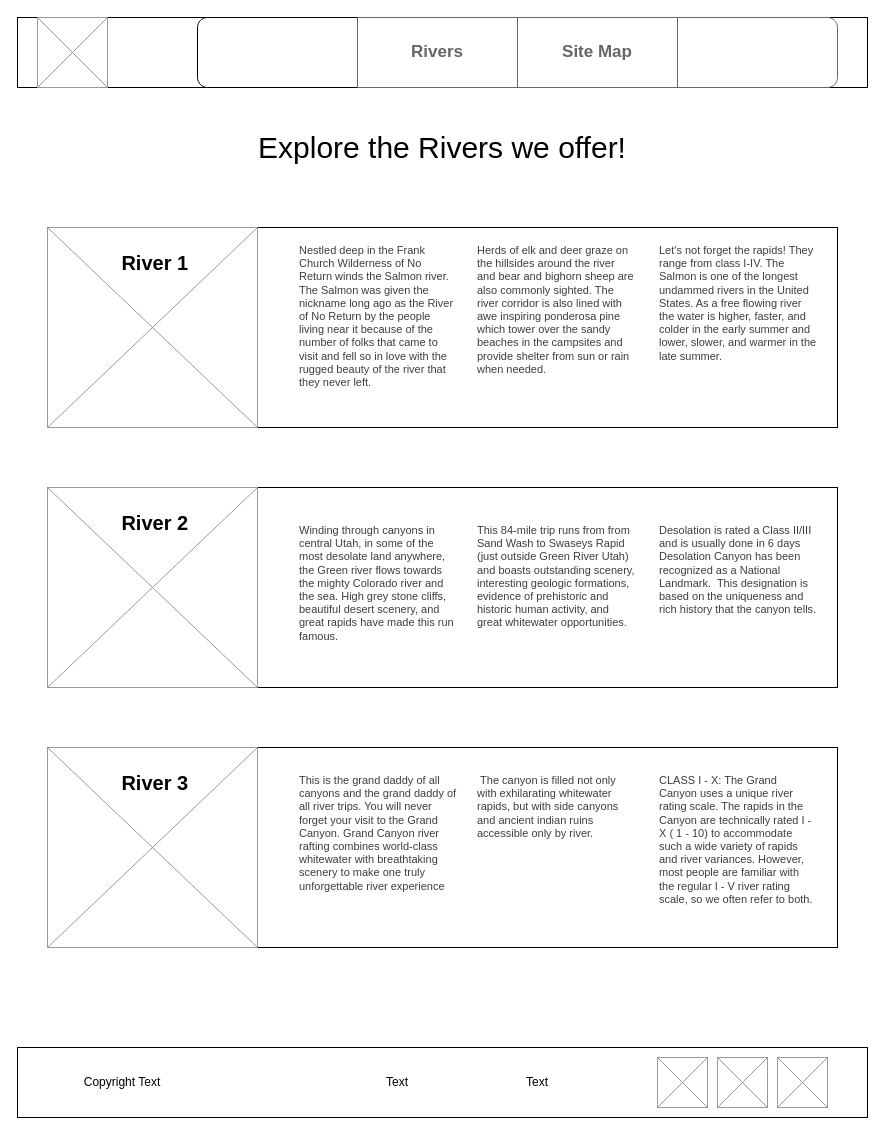
The diagram is 885 pixels wide and 1135 high, and some of its shapes have lost their labels. The centre of each missing label's shape, as x and y in pixels:
Contact Us: (x=757, y=52)
Home: (x=277, y=52)
